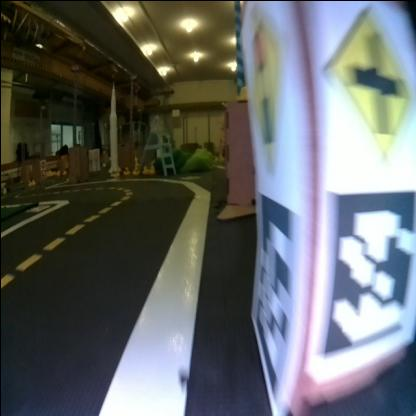Duckie: (110, 167, 118, 176), (148, 164, 154, 172), (141, 164, 147, 172), (122, 166, 128, 174), (131, 166, 137, 172)
Intersection sign: (315, 1, 414, 176)
QR code: (322, 190, 414, 352), (250, 189, 308, 397)
Signal sign: (240, 1, 301, 184)
